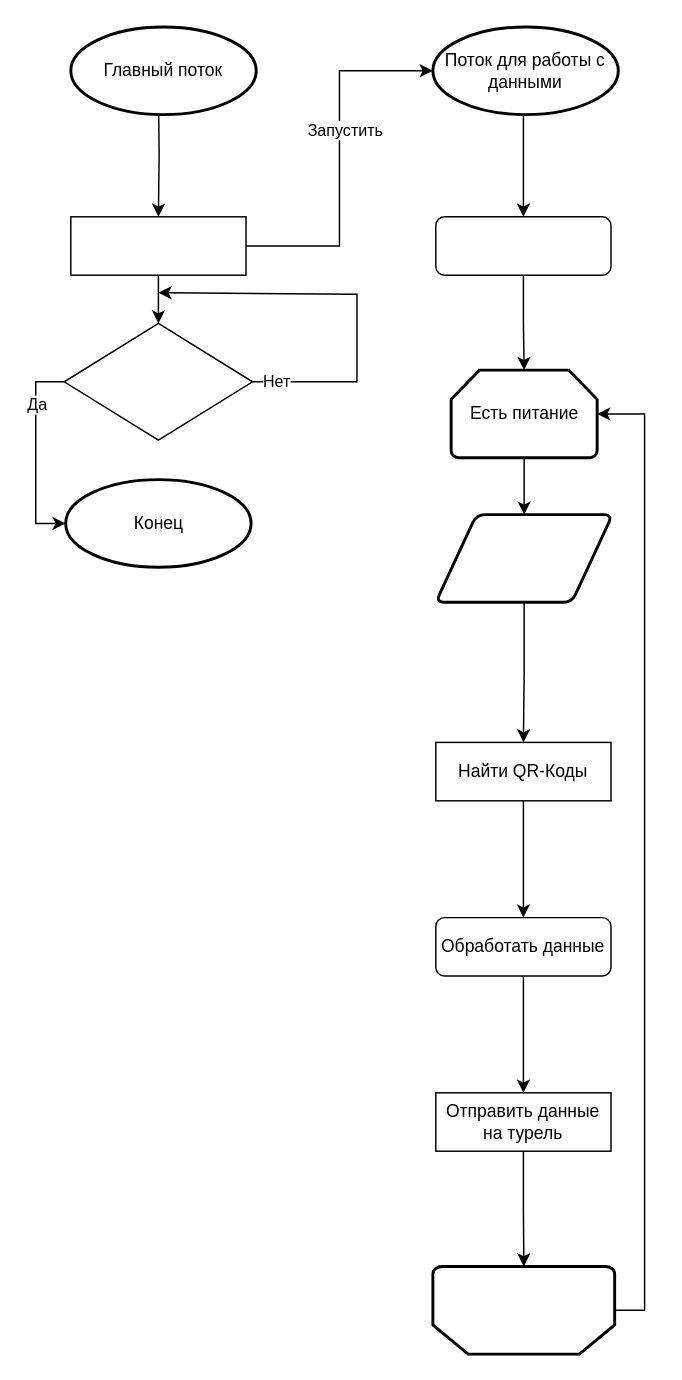
The diagram is 682 pixels wide and 1380 high, and some of its shapes have lost their labels. The shapes that lost their labels are listed below. From the top down, each one's box as (x1, y1, x2, y2) in pixels, then its label:
(69, 215, 246, 275): GUI Логика
(434, 215, 611, 275): Подключение к приёмнику
(63, 322, 253, 440): Выходим
(434, 512, 613, 603): Cчитать кадр
